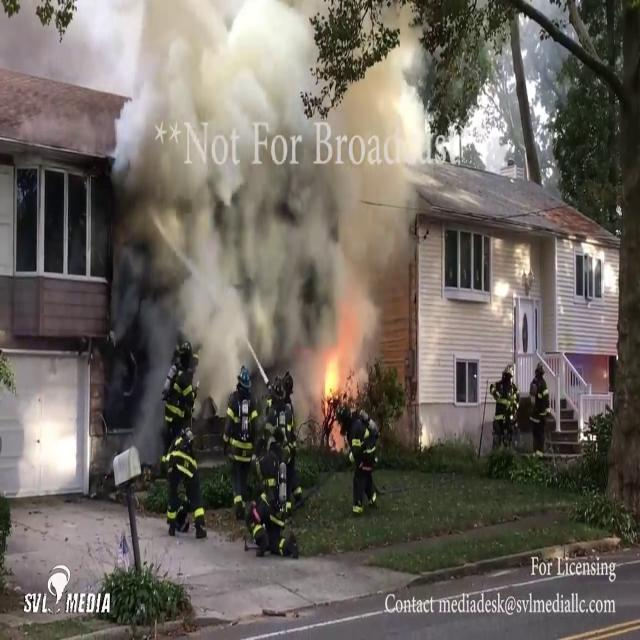Fire: (318, 344, 348, 433)
Smoke: (100, 0, 428, 405)
